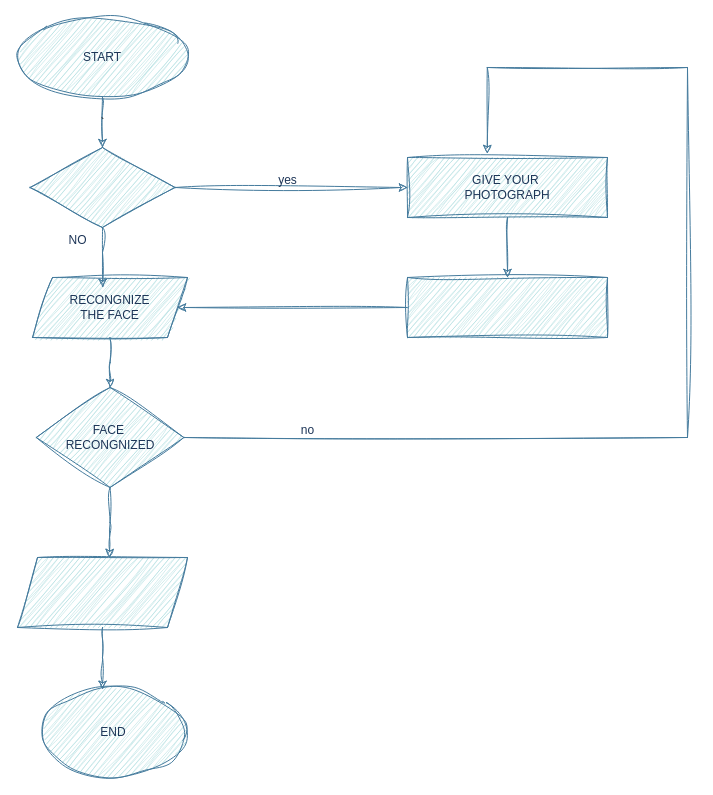
The diagram is 713 pixels wide and 795 high, and some of its shapes have lost their labels. Here are the shapes that lost their labels. From the top down, the centre of each, then its label:
[102,187]: NEW USER?
[507,307]: STORE THE FAC E DATA IN FOLDER ON YOUR NAME
[102,592]: STORRED IN CSV FILE WITH REGESTRATION NUMBER & DATE , TIME OF ENTRY
